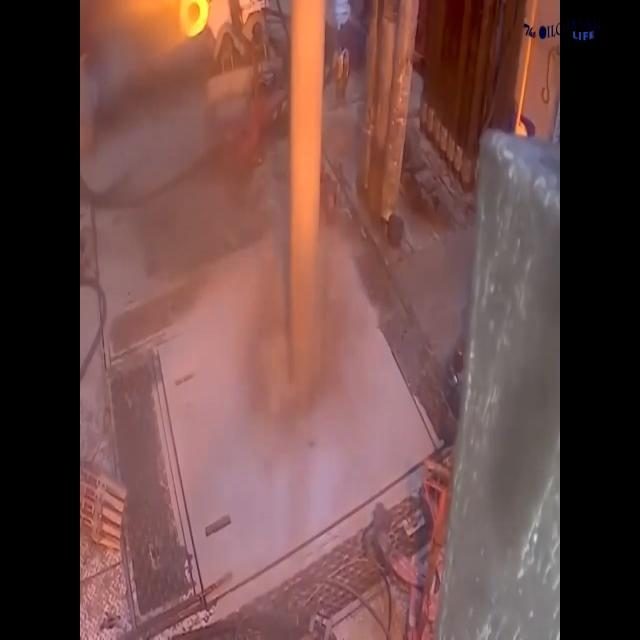spillage: (146, 205, 456, 627), (235, 214, 363, 433)
